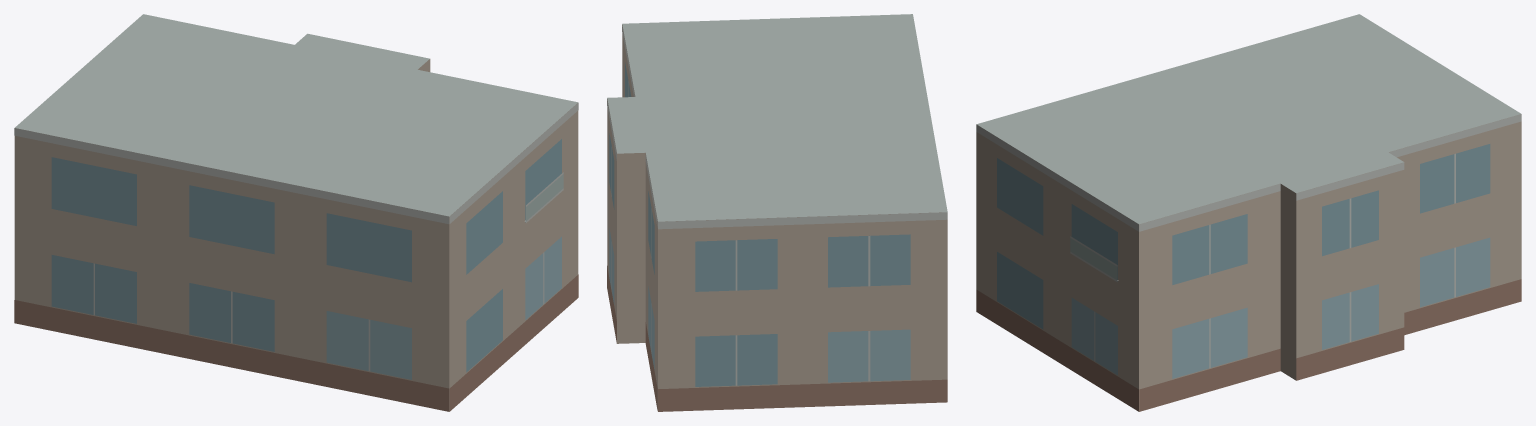
The model's file is survey-upis-32938056.glb.
The picture shows the model from 3 angles, left to right: view 1: azimuth 30°, elevation 25°; view 2: azimuth 150°, elevation 25°; view 3: azimuth 270°, elevation 25°; orthographic projection. The views are drawn at different scales.
Visible parts, largest first — view 1: survey-upis-32938056.tmp; view 2: survey-upis-32938056.tmp; view 3: survey-upis-32938056.tmp.
Boxes of the visible parts, x1=… form: survey-upis-32938056.tmp: x1=14, y1=14, x2=578, y2=411; survey-upis-32938056.tmp: x1=607, y1=14, x2=947, y2=411; survey-upis-32938056.tmp: x1=976, y1=14, x2=1521, y2=411.
Bounding box in the file's own units: 14.69 × 6.1 × 16.09.
